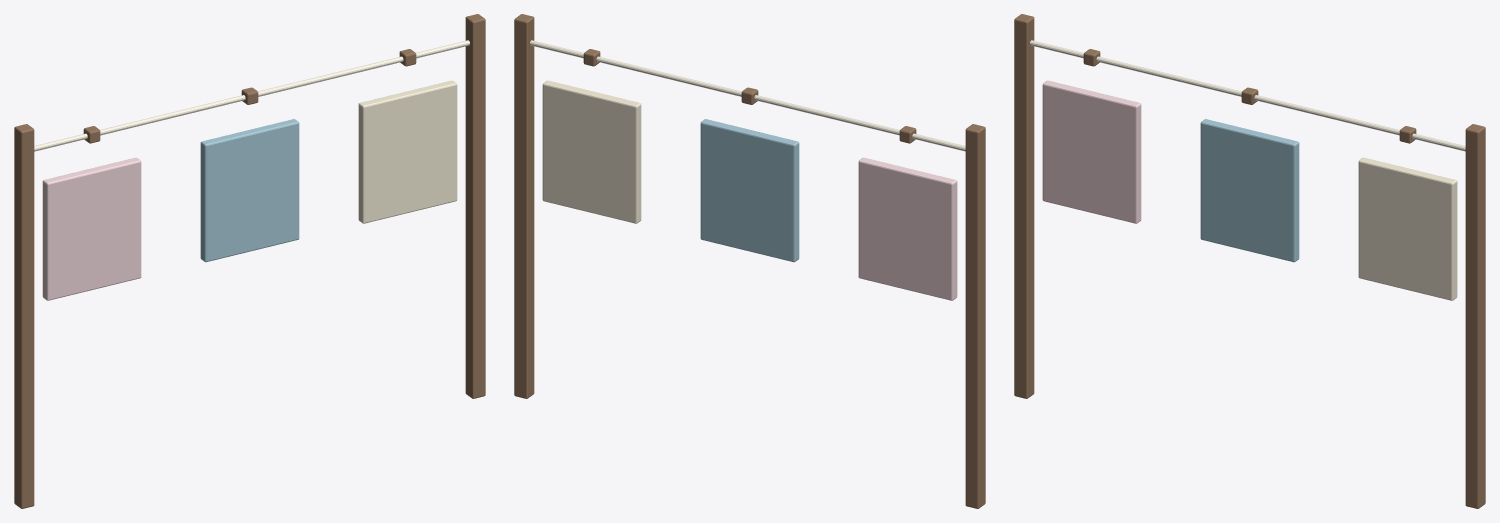
Rendered from laundry.glb.
The picture shows the model from 3 angles, left to right: view 1: azimuth 30°, elevation 25°; view 2: azimuth 150°, elevation 25°; view 3: azimuth 330°, elevation 25°; orthographic projection.
Visible parts, largest first — view 1: Laundry; view 2: Laundry; view 3: Laundry.
Part boxes in pixels (x1,y1,x2,y2): Laundry: (14, 14, 485, 508); Laundry: (514, 14, 985, 508); Laundry: (1014, 14, 1485, 508).
Bounding box in the file's own units: 2.06 × 1.6 × 0.06.
